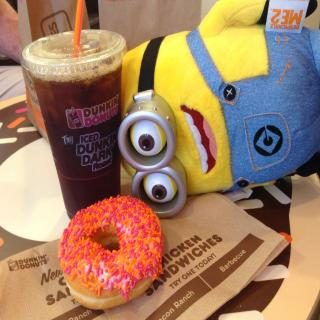Doughnut: (58, 192, 165, 308)
